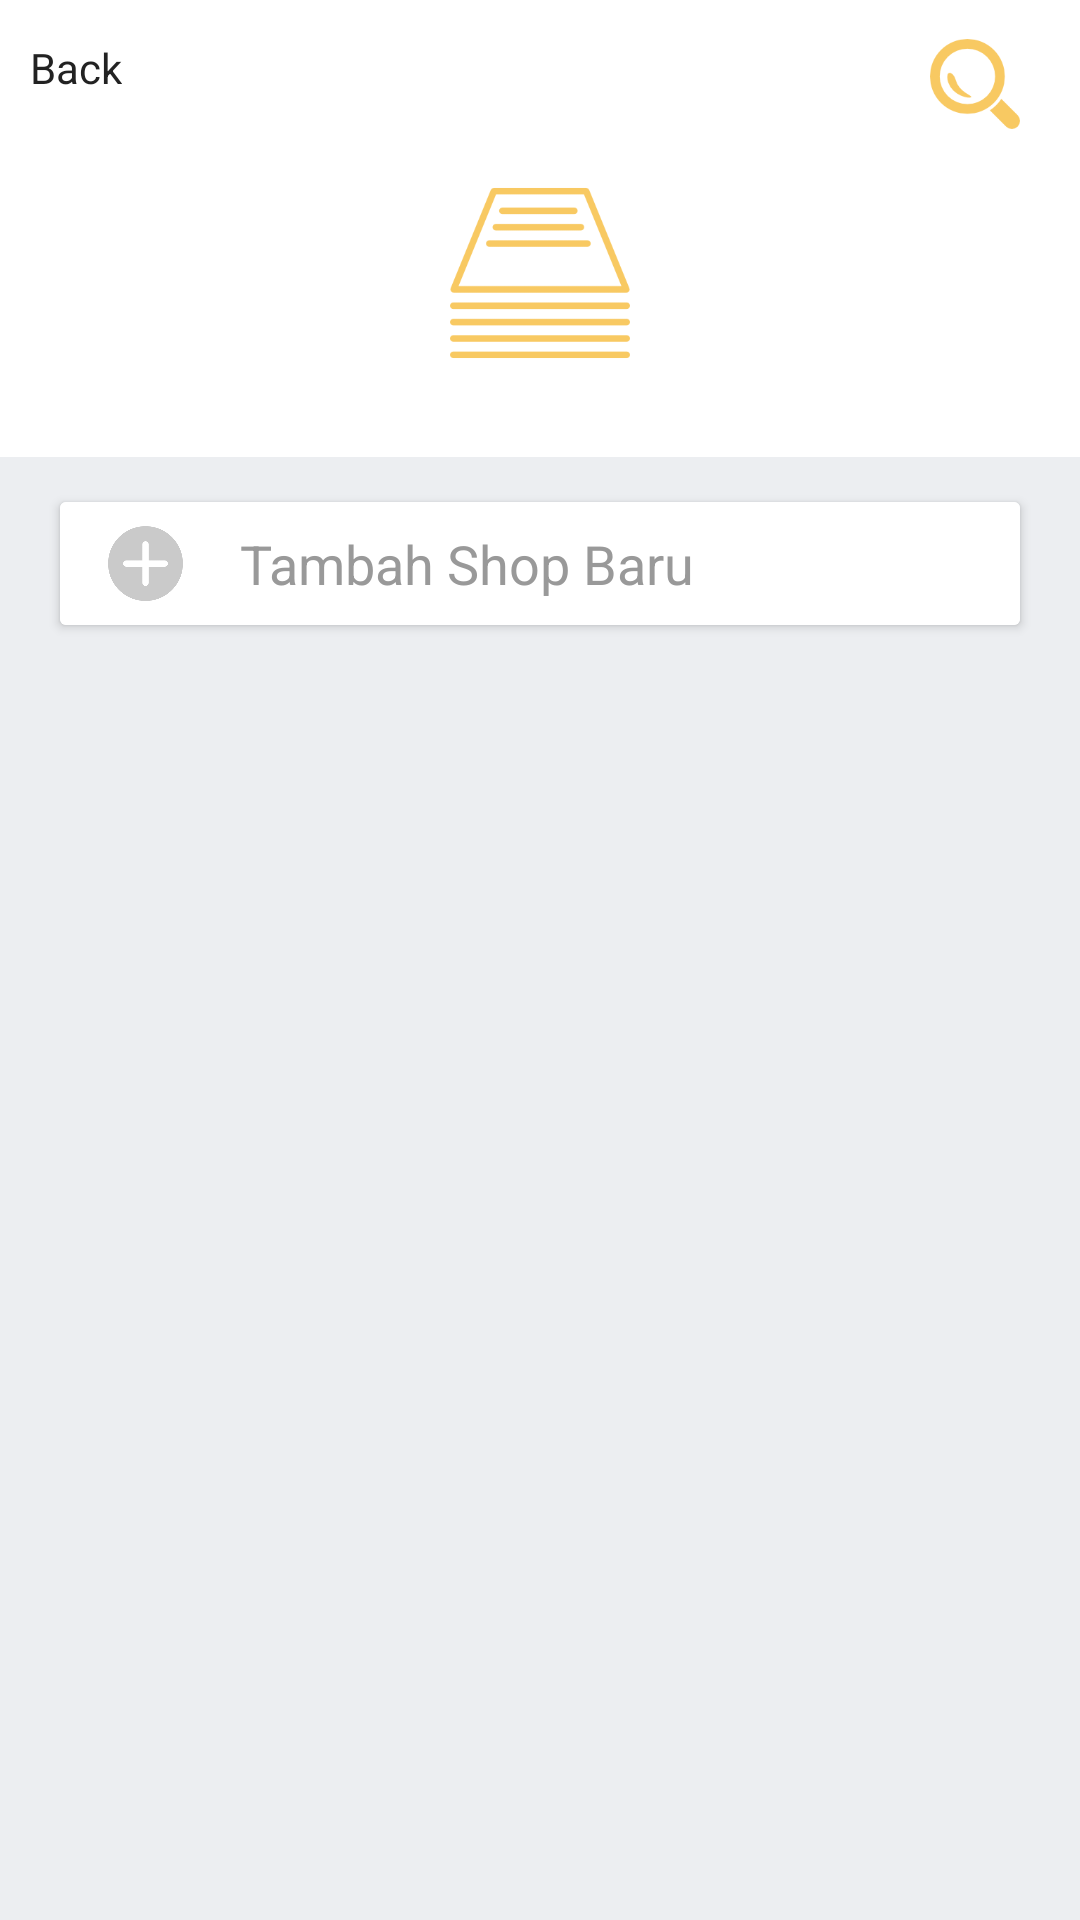

Screen size 1080 x 1920. Icon name, then its center in pixels as (x,y):
btnplus: (145,563)
search: (975,84)
